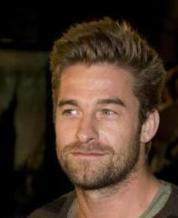face: (59, 97, 127, 160)
